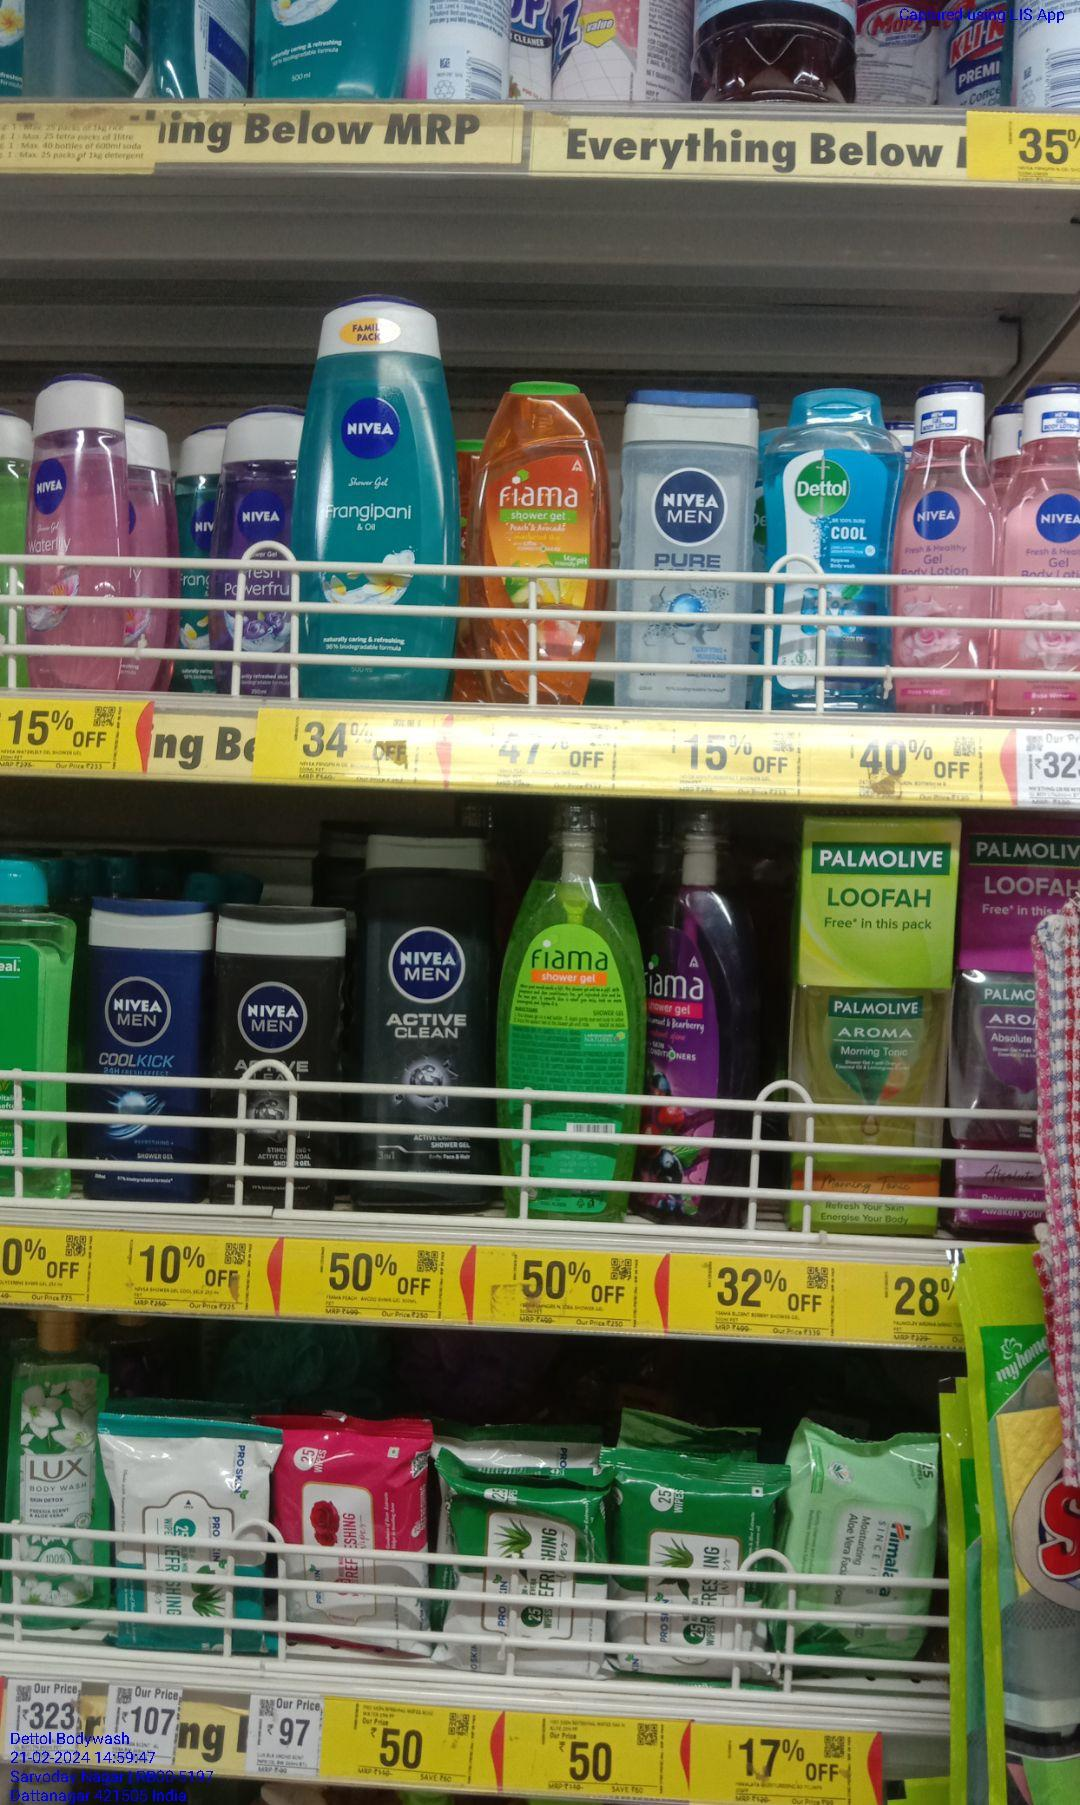Dettol_Bodywash_Cool: (761, 383, 905, 711)
Fiama_Shower_Gel_Peach_and_Avocado_250ML: (464, 374, 609, 694)
Nivea_Shower_Gel_Frangipani_and_Oil_250ML: (285, 291, 456, 699)
Nivea_Shower_Gel_Waterlily_and_Oil_250ML: (24, 369, 129, 690)
